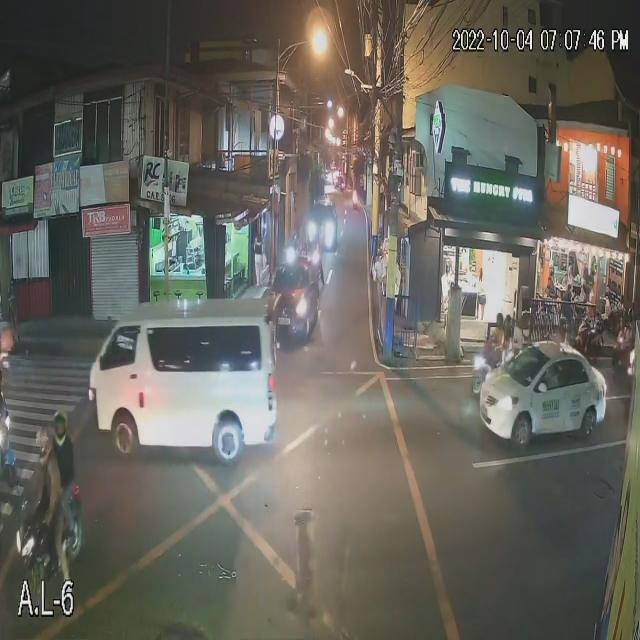helmet: (34, 425, 52, 467), (52, 410, 71, 444)
motorcycle: (15, 498, 86, 573)
rider: (35, 456, 63, 581), (54, 435, 76, 554)
